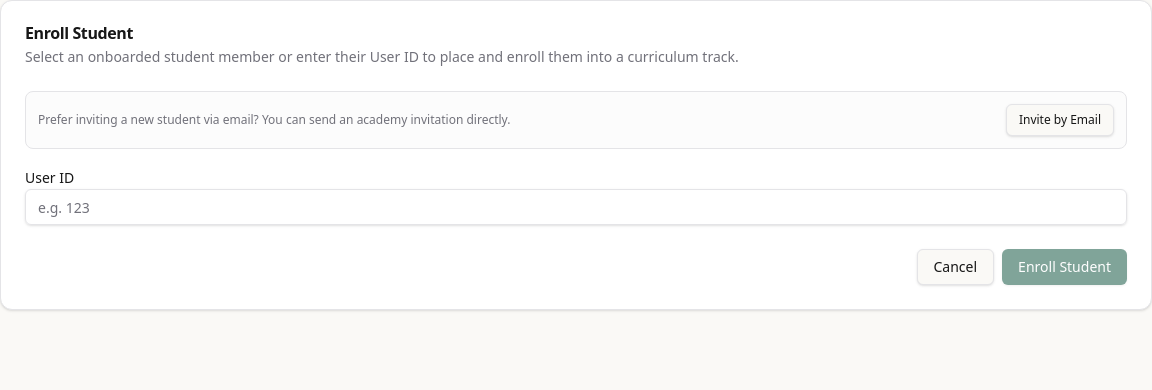
Student Management › AddStudentForm › add already-enrolled student shows conflict/validation
The width and height of the screenshot is (1152, 390).
Step 1. Type "123" into the number field labelled "User ID" → (576, 207), box [25,189,1127,225]
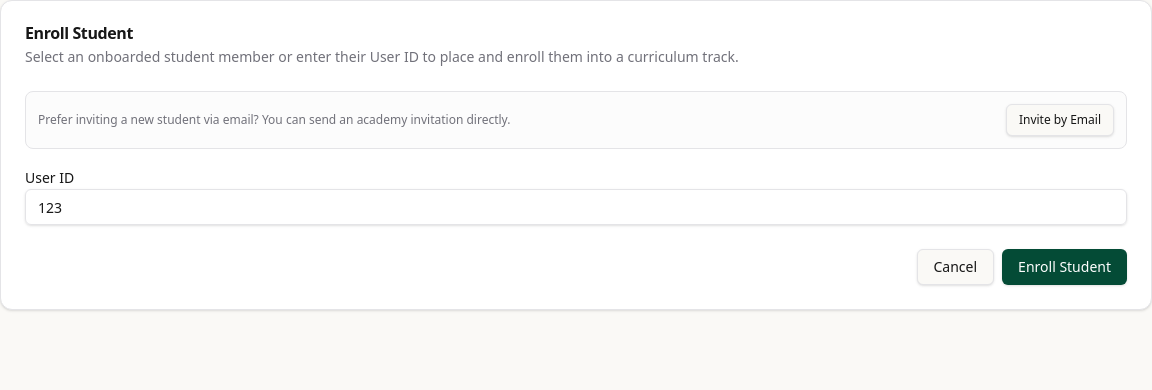
Step 2. Click the button "Enroll Student" → (1065, 267), box [1002,249,1127,285]
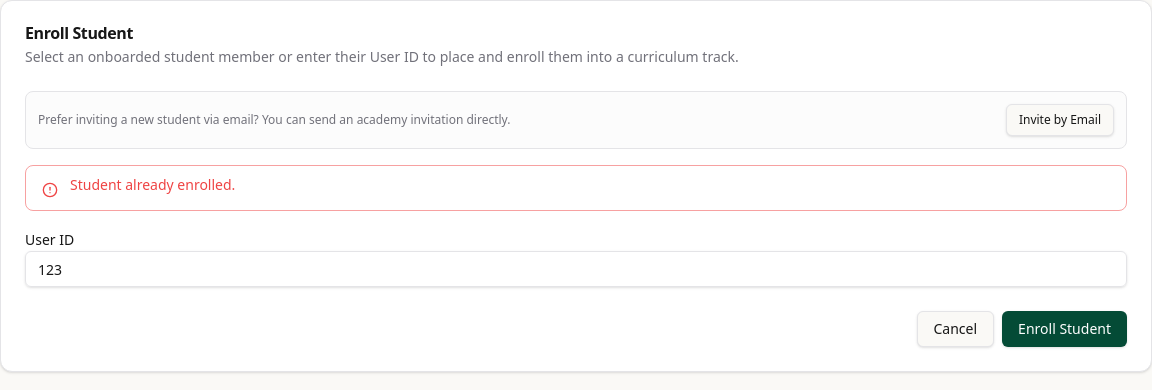
Expected: the text "Student already enrolled." is shown, [70,175,235,194]
